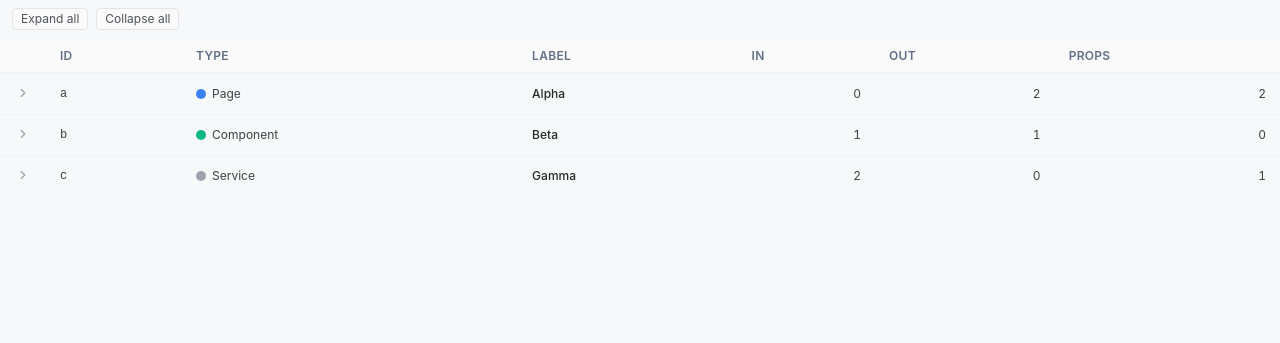
Test: TableView › collapses an expanded row and keeps several rows open at once
Click the button named "Expand Alpha".
click(23, 93)  # box [14, 84, 32, 102]
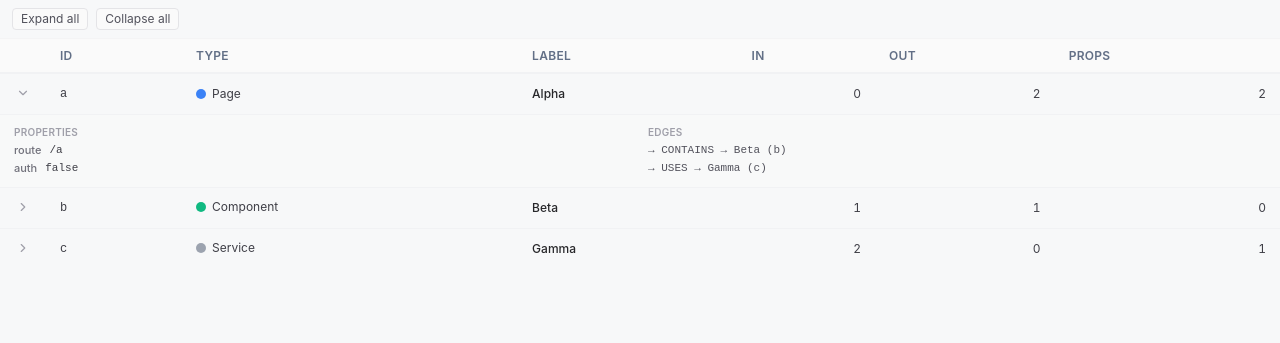
Click the button named "Expand Beta".
click(23, 207)  # box [14, 198, 32, 216]
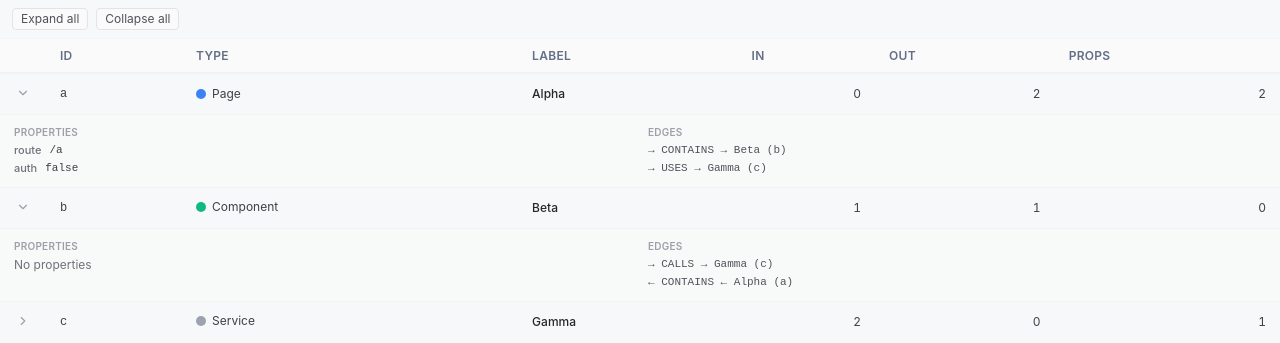
Result: the row with test id "table-detail-a" is shown at [0, 115, 1279, 187]
Result: the row with test id "table-detail-b" is shown at [0, 228, 1279, 301]
Click the button named "Collapse Alpha".
click(23, 93)  # box [14, 84, 32, 102]
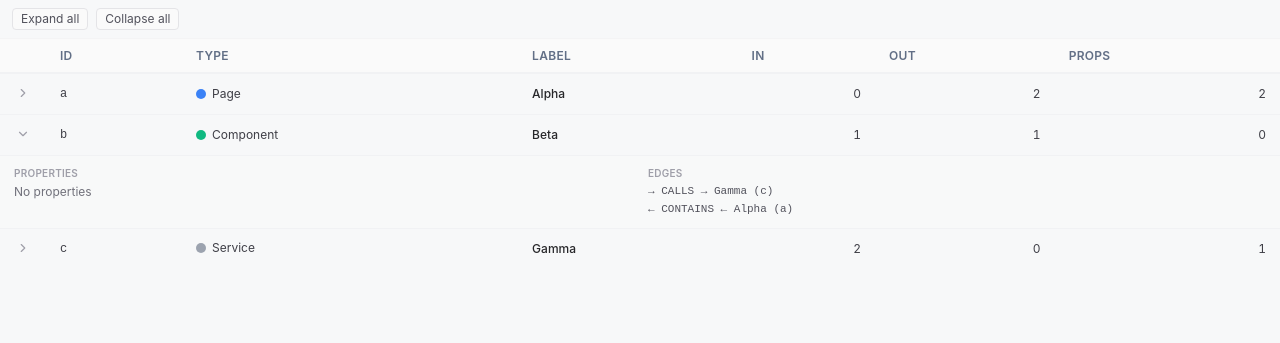
Result: the row with test id "table-detail-b" is shown at [0, 156, 1279, 228]
Result: the row with test id "table-detail-a" is gone
